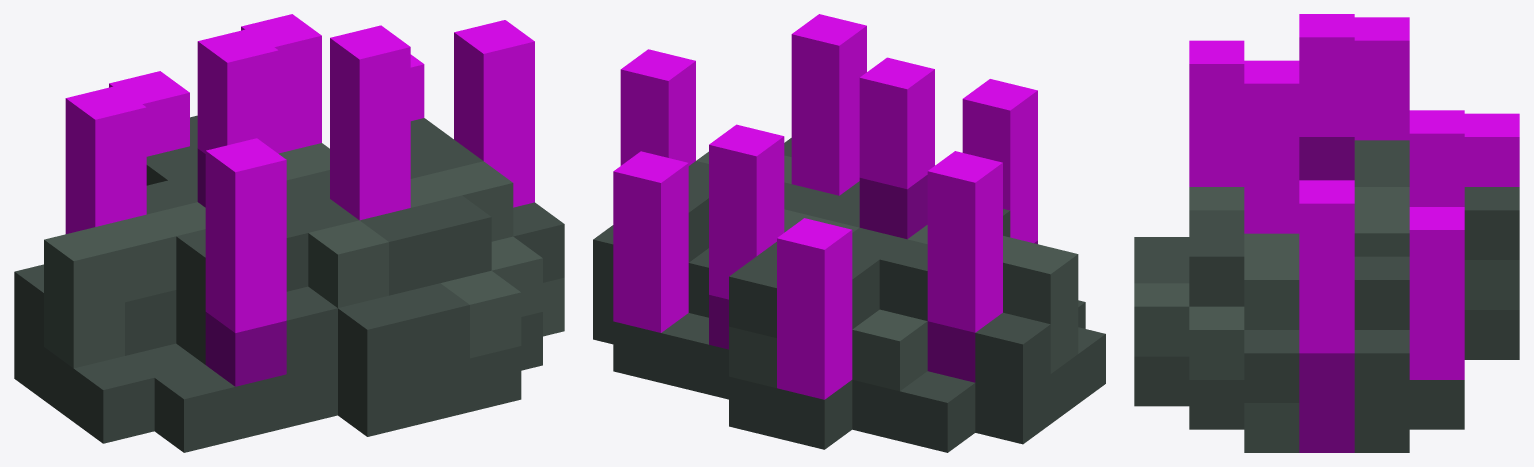
Rendered from BismuthDeposit_S.obj.
3 renders of one model, left to right at view 1: azimuth 30°, elevation 25°; view 2: azimuth 150°, elevation 25°; view 3: azimuth 270°, elevation 25°, orthographic. The views are drawn at different scales.
Parts seen in each view (by area): view 1: BismuthDeposit_S; view 2: BismuthDeposit_S; view 3: BismuthDeposit_S.
Part boxes in pixels (x1,y1,x2,y2): BismuthDeposit_S: (14, 14, 564, 452); BismuthDeposit_S: (593, 14, 1105, 452); BismuthDeposit_S: (1134, 14, 1519, 452).
Bounding box in the file's own units: 0.9 × 0.6 × 0.7.
1 material, 1 textured.
